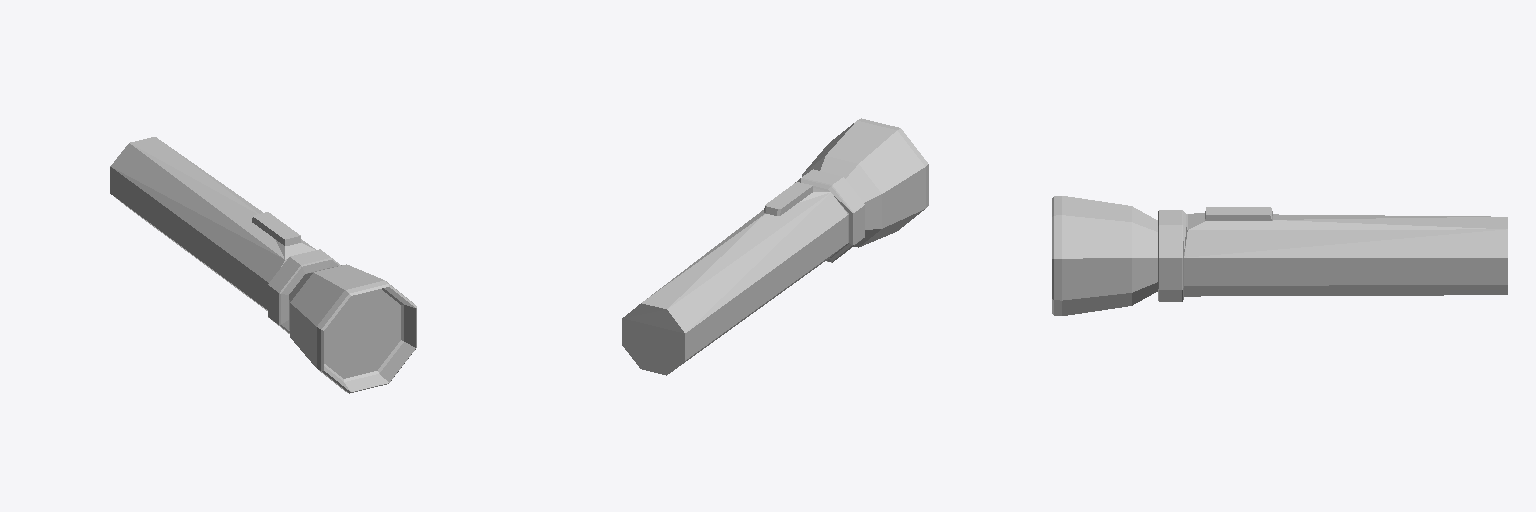
File: linterna.obj
3 renders of one model, left to right at view 1: azimuth 30°, elevation 25°; view 2: azimuth 150°, elevation 25°; view 3: azimuth 270°, elevation 25°, orthographic.
Visible parts, largest first — view 1: Cylinder.001; view 2: Cylinder.001; view 3: Cylinder.001.
Boxes of the visible parts, x1=… form: Cylinder.001: x1=110, y1=137, x2=416, y2=393; Cylinder.001: x1=622, y1=118, x2=928, y2=375; Cylinder.001: x1=1052, y1=196, x2=1507, y2=315.
Bounding box in the file's own units: 1.32 × 1.32 × 5.41.